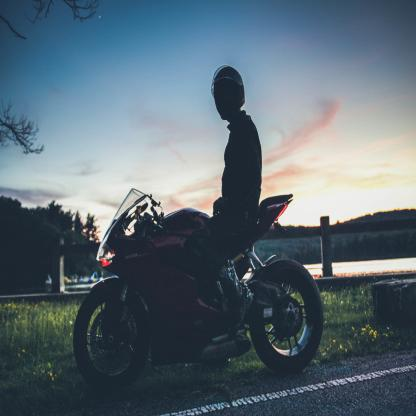Helmet: (208, 64, 250, 119)
